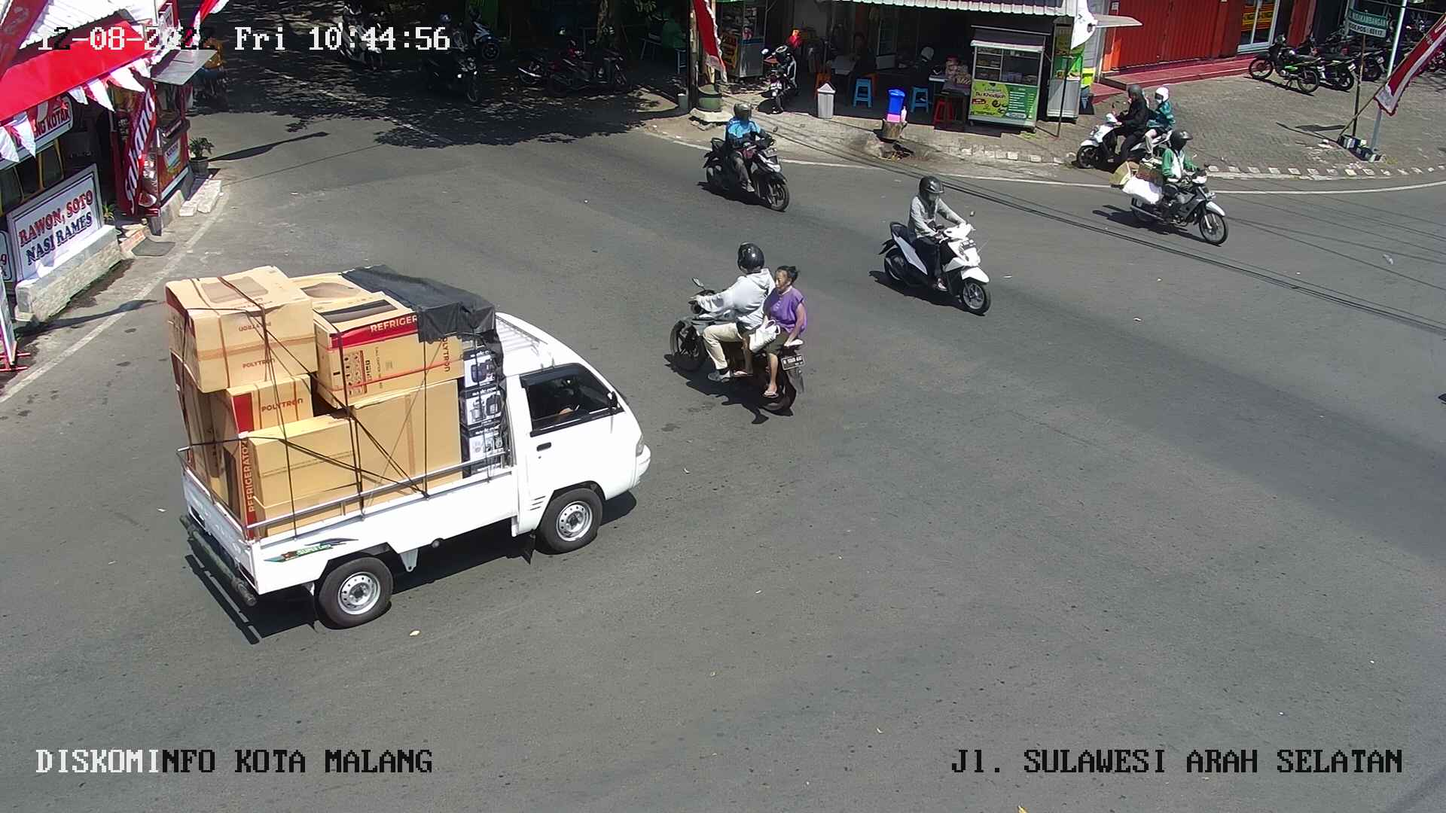with_helmet: (880, 171, 1001, 319), (688, 94, 793, 216), (1135, 130, 1235, 251), (1068, 84, 1180, 173)
without_helmet: (658, 224, 844, 437)
